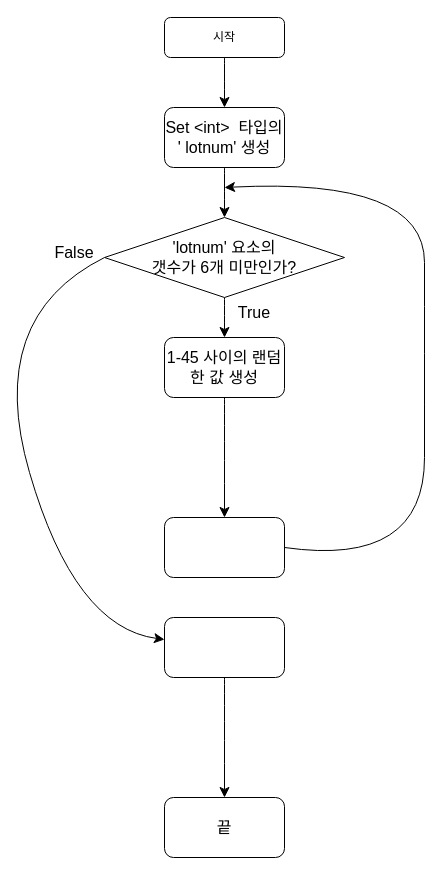
This 443x875 diagram has some shape labels left out. Each missing label, with the centre of its shape:
"'lotnum' 반환" goes at point 224,647.
"생성된 값을 'lotnum' 에 저장" goes at point 224,547.
